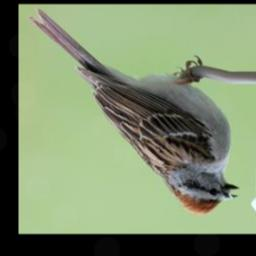Sparrow: (30, 7, 242, 217)
